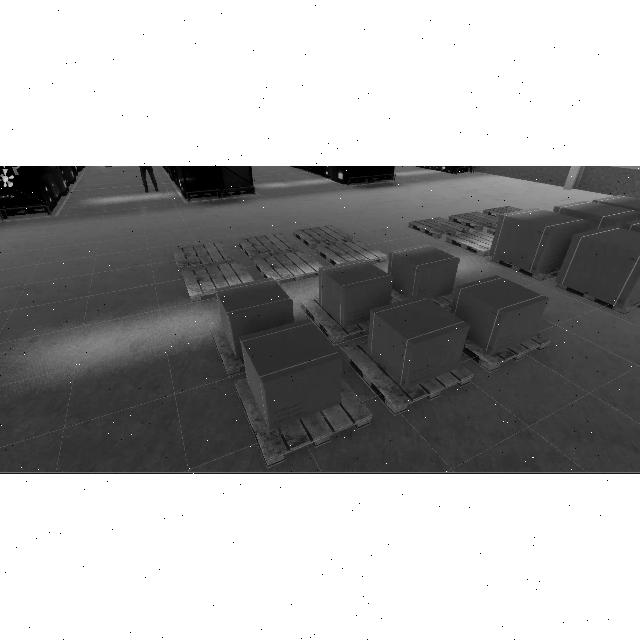wooden_pallet: (233, 379, 374, 469), (342, 340, 475, 416), (462, 330, 553, 373), (300, 297, 371, 346), (181, 261, 255, 303), (553, 281, 640, 315), (252, 251, 325, 284), (207, 320, 245, 377), (171, 242, 234, 272), (316, 241, 387, 266), (236, 233, 299, 261), (491, 256, 559, 281), (293, 225, 354, 248), (408, 217, 469, 239), (445, 231, 494, 256), (447, 211, 499, 231)
